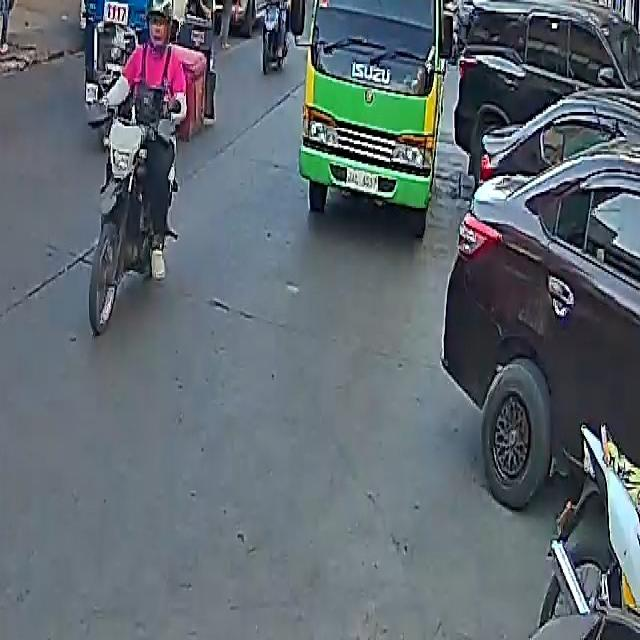car: (443, 155, 640, 514), (454, 0, 640, 178)
